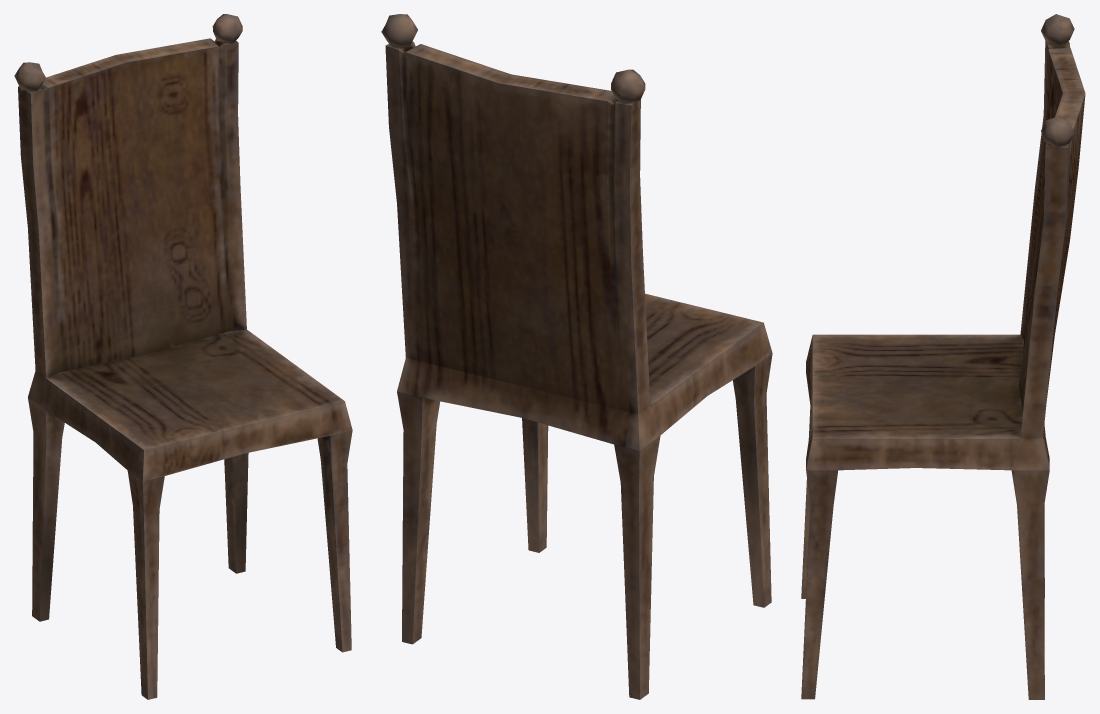
File: Chair.fbx
3 views of the same model, side by side, from view 1: azimuth 30°, elevation 25°; view 2: azimuth 150°, elevation 25°; view 3: azimuth 270°, elevation 25° (orthographic). The views are drawn at different scales.
Parts seen in each view (by area): view 1: chair; view 2: chair; view 3: chair.
Boxes of the visible parts, box(x1,y1,x2,y2) form: chair: box(14, 14, 352, 699); chair: box(381, 14, 772, 699); chair: box(801, 14, 1085, 699).
Size of the model in its own units: 39.7 by 92.42 by 40.94.
